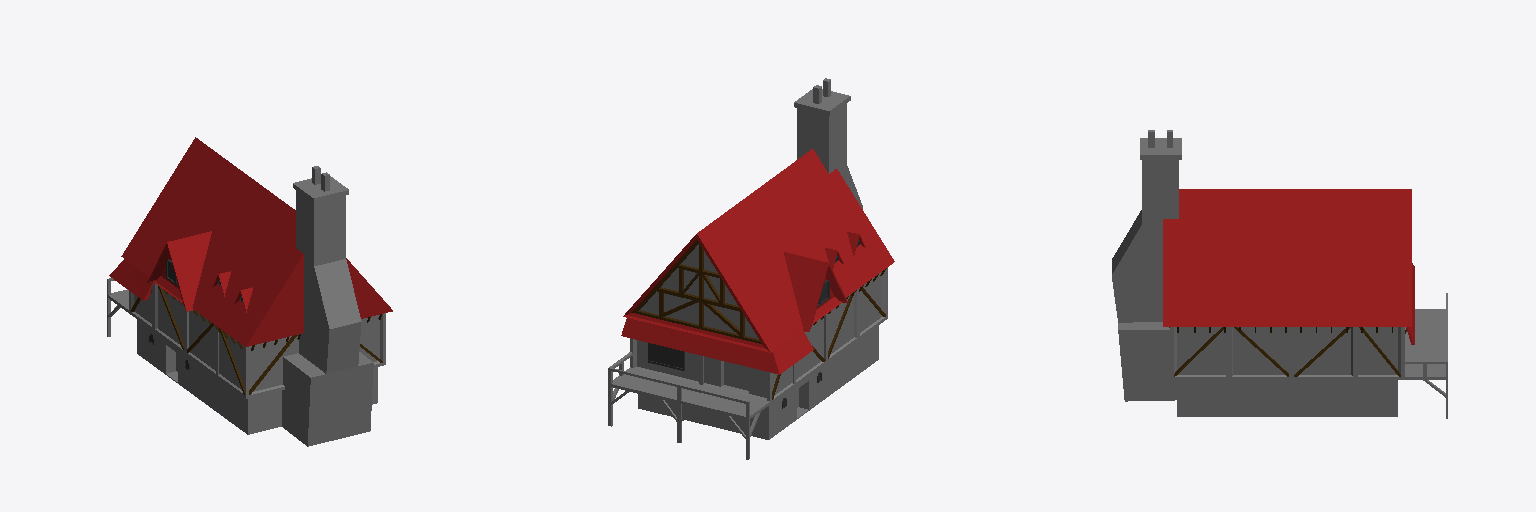
File: house.obj
The picture shows the model from 3 angles: view 1: azimuth 30°, elevation 25°; view 2: azimuth 150°, elevation 25°; view 3: azimuth 270°, elevation 25°; orthographic projection.
Parts seen in each view (by area): view 1: pCube6, pCube16, pCube1, pCube37; view 2: pCube6, pCube1, pCube26, pCube37, pCube16, pCube14; view 3: pCube6, pCube1, pCube16.
Boxes of the visible parts, x1=… form: pCube6: x1=121, y1=137, x2=392, y2=346; pCube16: x1=282, y1=166, x2=373, y2=446; pCube1: x1=107, y1=278, x2=385, y2=434; pCube37: x1=109, y1=259, x2=153, y2=300; pCube6: x1=623, y1=149, x2=894, y2=352; pCube1: x1=608, y1=268, x2=887, y2=459; pCube26: x1=632, y1=240, x2=761, y2=343; pCube37: x1=621, y1=313, x2=813, y2=374; pCube16: x1=794, y1=78, x2=862, y2=208; pCube14: x1=648, y1=343, x2=684, y2=370; pCube6: x1=1163, y1=189, x2=1411, y2=326; pCube1: x1=1170, y1=293, x2=1447, y2=418; pCube16: x1=1112, y1=130, x2=1181, y2=401.
Bounding box in the file's own units: 10.01 × 15.35 × 18.36.